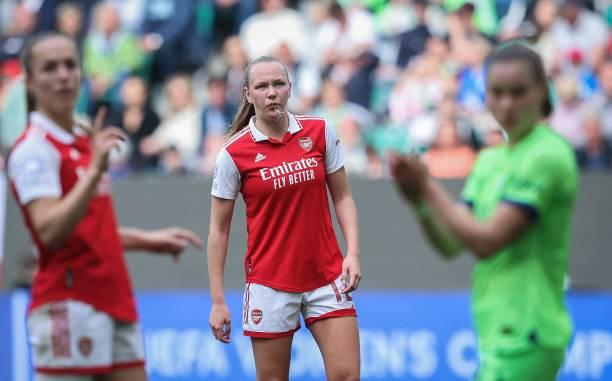Spitting: (225, 50, 326, 142)
